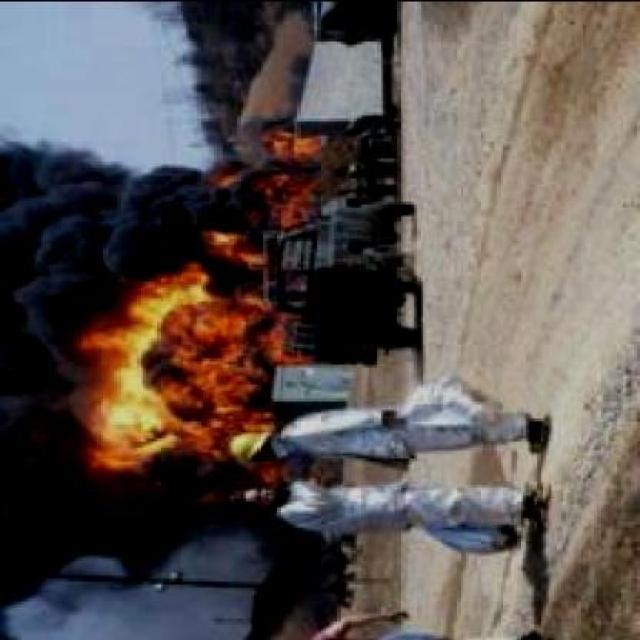Fire: (80, 123, 320, 494)
Smoke: (0, 143, 79, 612)
